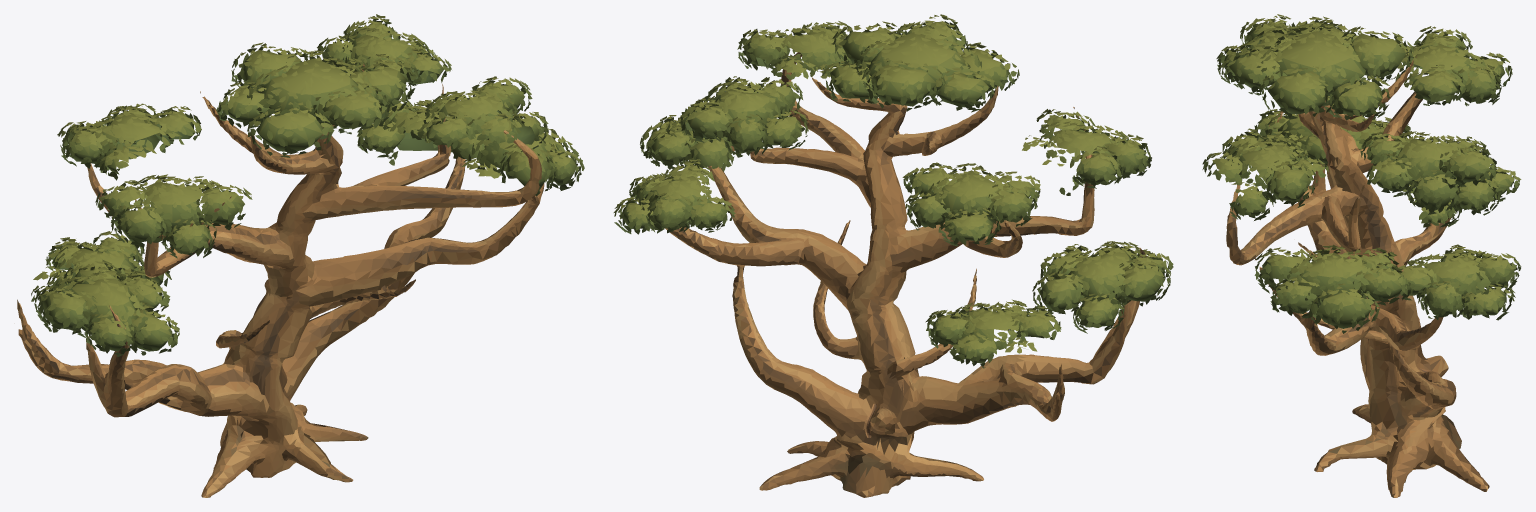
Rendered from lowfork.glb.
The picture shows the model from 3 angles, left to right: view 1: azimuth 30°, elevation 25°; view 2: azimuth 150°, elevation 25°; view 3: azimuth 270°, elevation 25°; orthographic projection. The views are drawn at different scales.
Visible parts, largest first — view 1: lowfork broad layered branch fans, lowfork continuous living boughs metre-v2; view 2: lowfork broad layered branch fans, lowfork continuous living boughs metre-v2; view 3: lowfork broad layered branch fans, lowfork continuous living boughs metre-v2.
Part boxes in pixels (box(x1,y1,x2,y2)): lowfork broad layered branch fans: box(31, 14, 584, 356); lowfork continuous living boughs metre-v2: box(17, 63, 544, 497); lowfork broad layered branch fans: box(613, 14, 1173, 368); lowfork continuous living boughs metre-v2: box(665, 52, 1146, 497); lowfork broad layered branch fans: box(1202, 14, 1521, 333); lowfork continuous living boughs metre-v2: box(1226, 49, 1489, 497).
Bounding box in the file's own units: 14.12 × 10.87 × 7.48.
